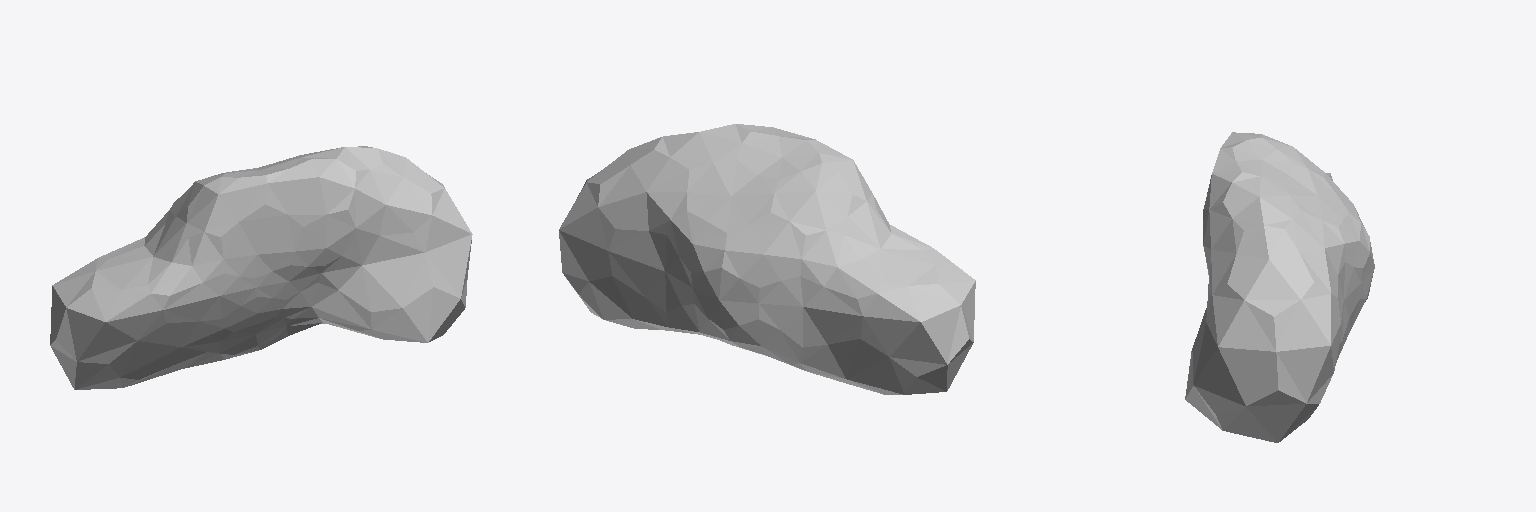
Rendered from Cloud2-tri.obj.
3 renders of one model, left to right at view 1: azimuth 30°, elevation 25°; view 2: azimuth 150°, elevation 25°; view 3: azimuth 270°, elevation 25°, orthographic.
Parts seen in each view (by area): view 1: Cloud2_Icosphere.004; view 2: Cloud2_Icosphere.004; view 3: Cloud2_Icosphere.004.
Part boxes in pixels (bbox=[...]): Cloud2_Icosphere.004: bbox=[50, 146, 472, 389]; Cloud2_Icosphere.004: bbox=[559, 124, 975, 394]; Cloud2_Icosphere.004: bbox=[1185, 132, 1374, 442].
Size of the model in its own units: 4.26 by 2.07 by 1.75.